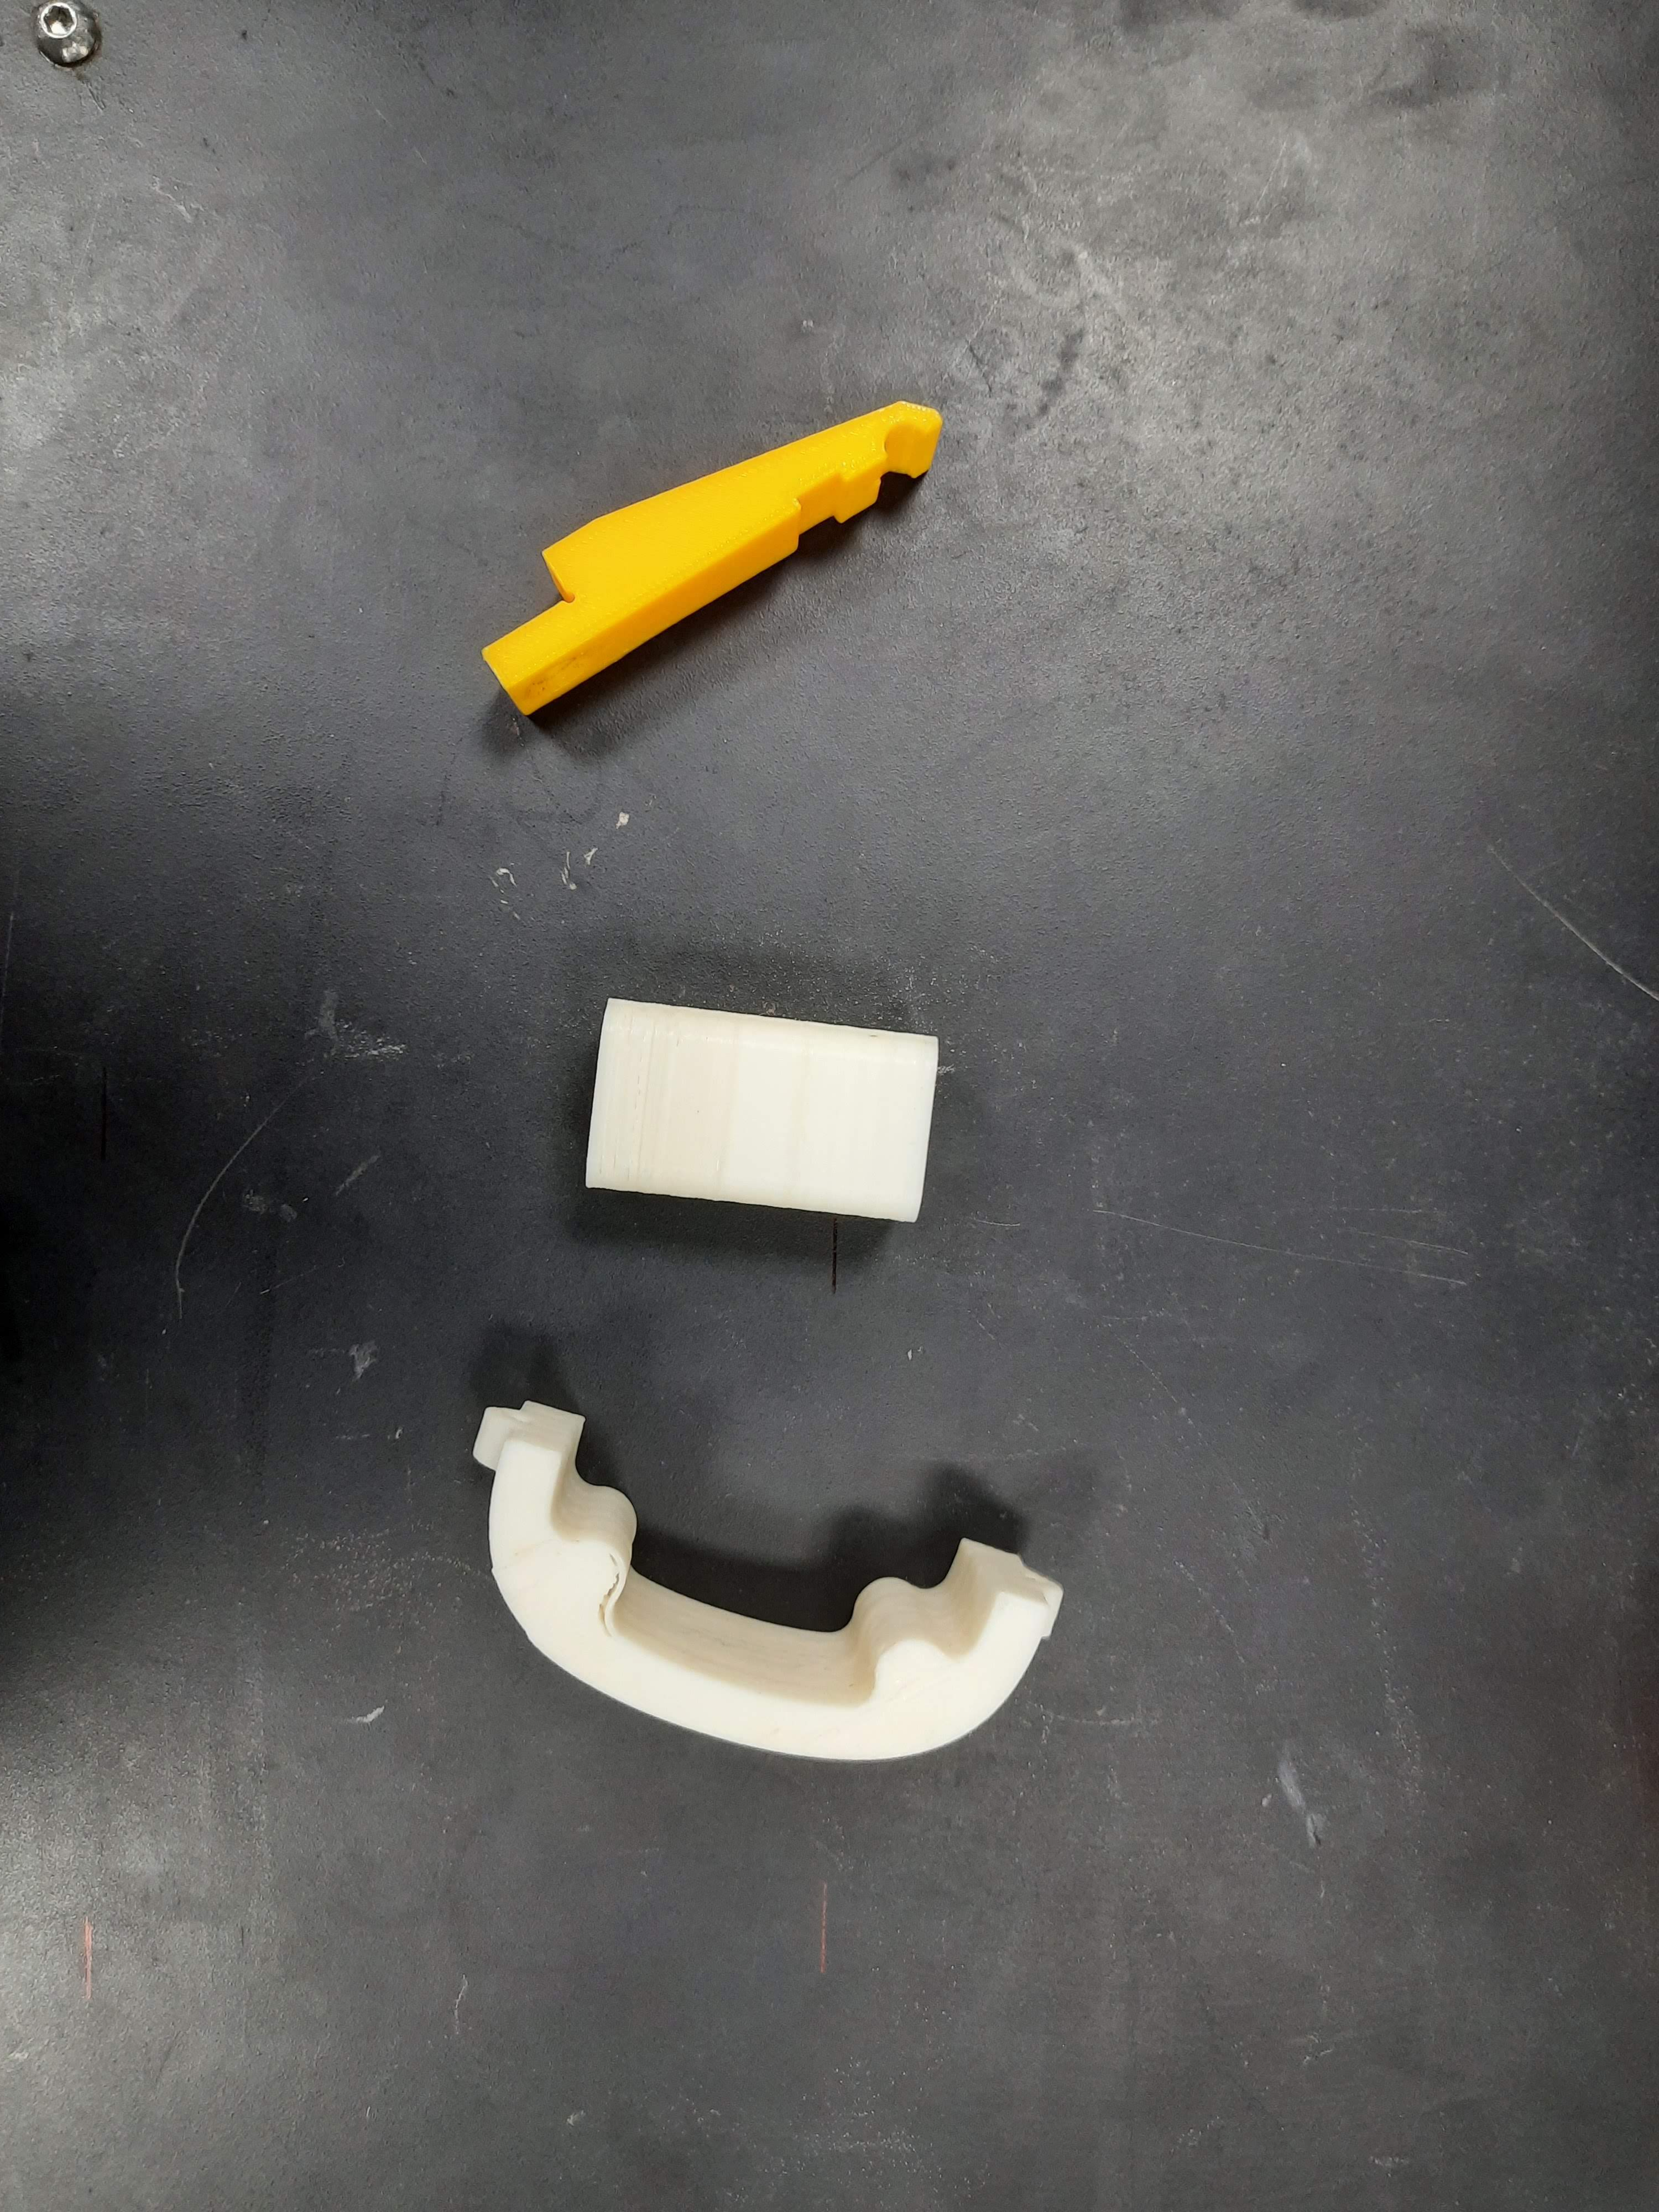ARC: (415, 1381, 1080, 1822)
CUBE: (580, 996, 943, 1219)
YELLOW: (439, 319, 971, 723)
